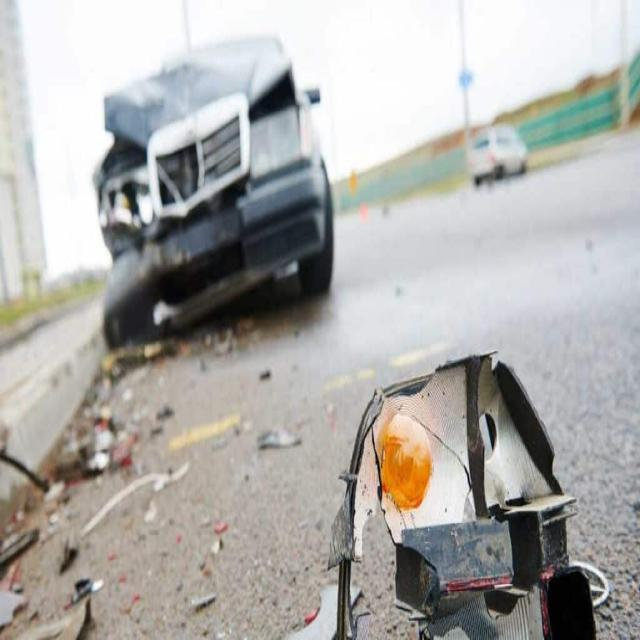Accident: (88, 30, 334, 348)
